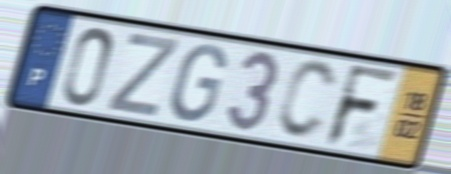0: (62, 24, 116, 109)
3: (223, 48, 281, 135)
C: (274, 58, 339, 143)
F: (321, 61, 403, 151)
G: (168, 42, 229, 125)
Z: (103, 30, 182, 120)
